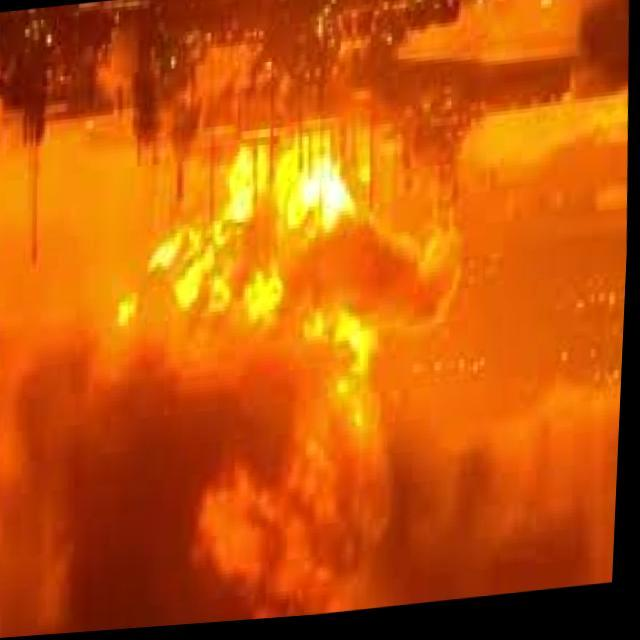fire: (147, 142, 411, 402)
